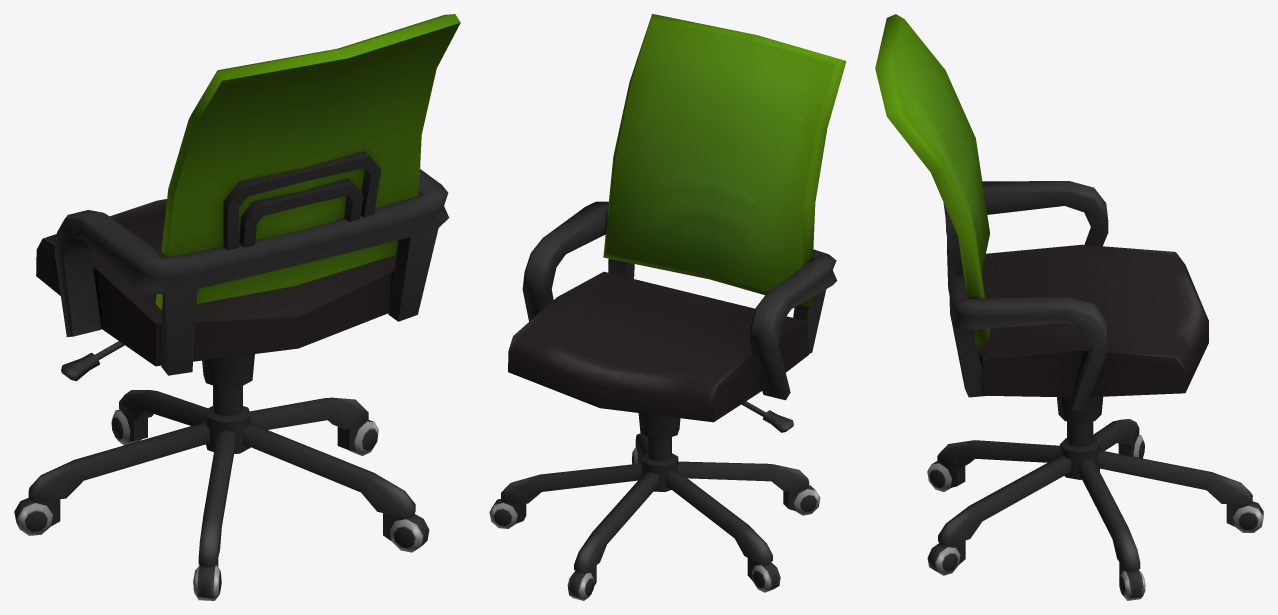
Rendered from OfficeChair.fbx.
3 views of the same model, side by side, from view 1: azimuth 30°, elevation 25°; view 2: azimuth 150°, elevation 25°; view 3: azimuth 270°, elevation 25° (orthographic). The views are drawn at different scales.
Parts seen in each view (by area): view 1: OfficeChair; view 2: OfficeChair; view 3: OfficeChair.
Part boxes in pixels (box(x1,y1,x2,y2)): OfficeChair: box(14, 14, 460, 600); OfficeChair: box(489, 14, 846, 600); OfficeChair: box(875, 14, 1263, 600).
Size of the model in its own units: 69.96 by 76.86 by 102.
